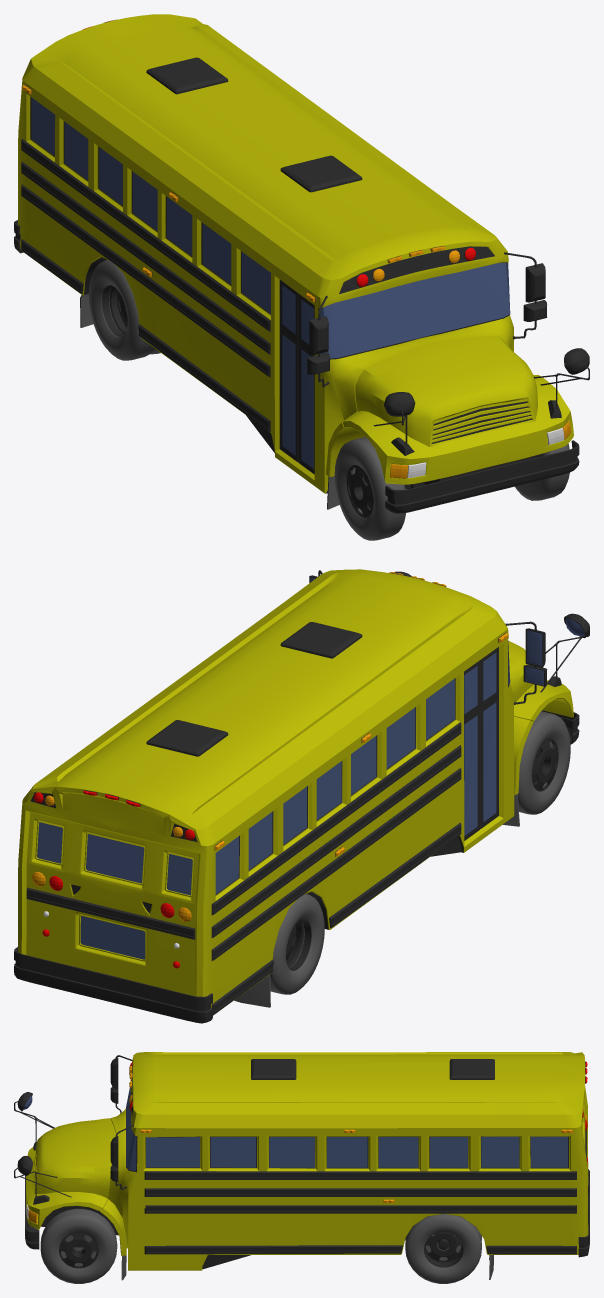
File: SchoolBusModel.fbx
3 renders of one model, top to bottom at view 1: azimuth 30°, elevation 25°; view 2: azimuth 150°, elevation 25°; view 3: azimuth 270°, elevation 25°, orthographic. The views are drawn at different scales.
Visible parts, largest first — view 1: Body, WheelRightFront, WheelRightRear, WheelLeftFront; view 2: Body, WheelRightFront, WheelRightRear; view 3: Body, WheelLeftFront, WheelLeftRear.
Part boxes in pixels (x1,y1,x2,y2): Body: [14, 14, 589, 513]; WheelRightFront: [334, 437, 405, 540]; WheelRightRear: [88, 259, 160, 360]; WheelLeftFront: [515, 444, 569, 500]; Body: [14, 569, 589, 1023]; WheelRightFront: [518, 711, 570, 814]; WheelRightRear: [269, 894, 324, 994]; Body: [14, 1052, 589, 1280]; WheelLeftFront: [40, 1208, 117, 1283]; WheelLeftRear: [405, 1214, 481, 1283].
Size of what is drawn, in the model's own units: 326 by 325 by 921.
